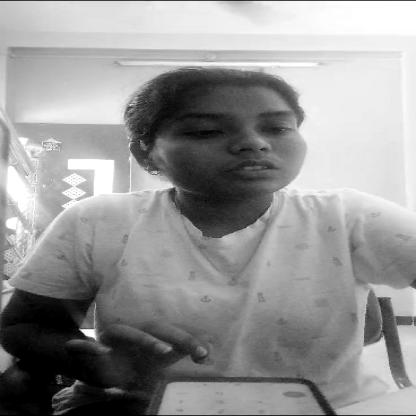Distracted: (108, 62, 310, 195)
